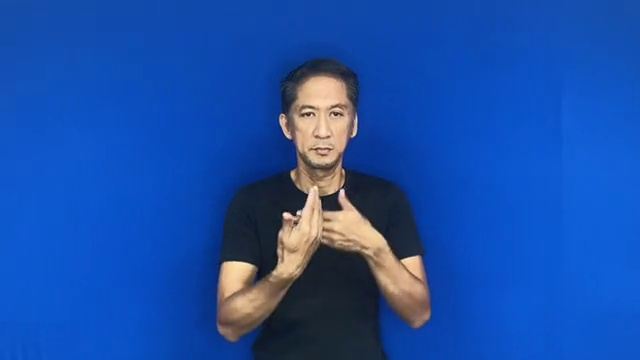bread: (273, 181, 378, 281)
